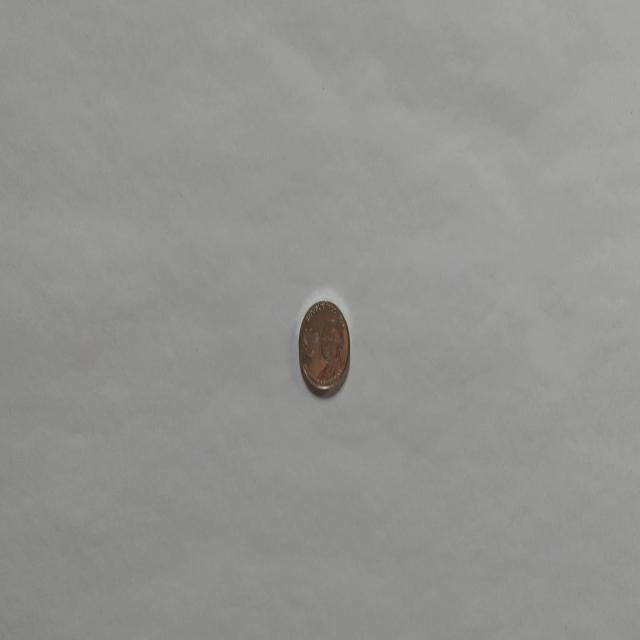lima ratus rupiah: (298, 298, 350, 396)
